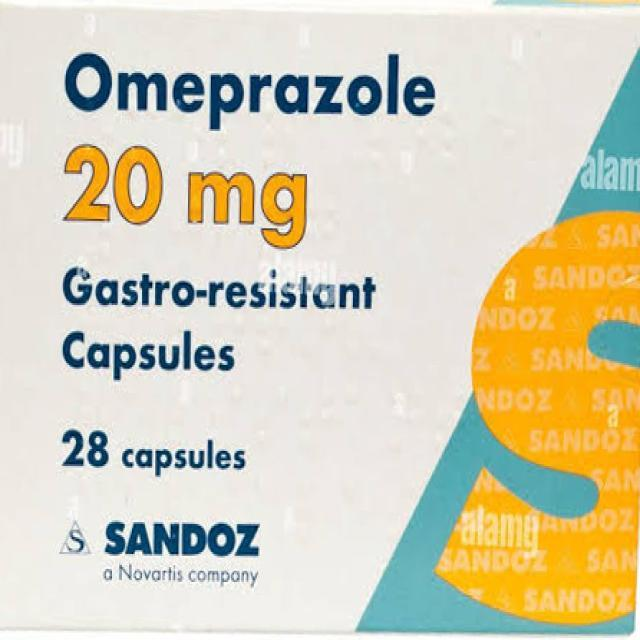drug-name: (63, 47, 444, 127)
